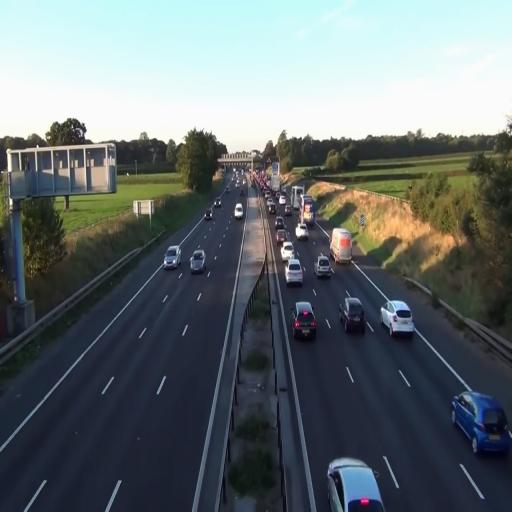vehicle: (451, 391, 512, 457), (326, 456, 386, 512), (380, 299, 414, 340), (292, 302, 317, 342), (341, 295, 366, 335), (330, 226, 352, 266), (330, 227, 352, 266), (284, 258, 304, 286), (314, 254, 333, 278), (190, 248, 207, 274), (164, 245, 181, 268), (281, 240, 294, 263), (296, 222, 308, 240), (233, 202, 244, 220), (205, 211, 212, 221)
